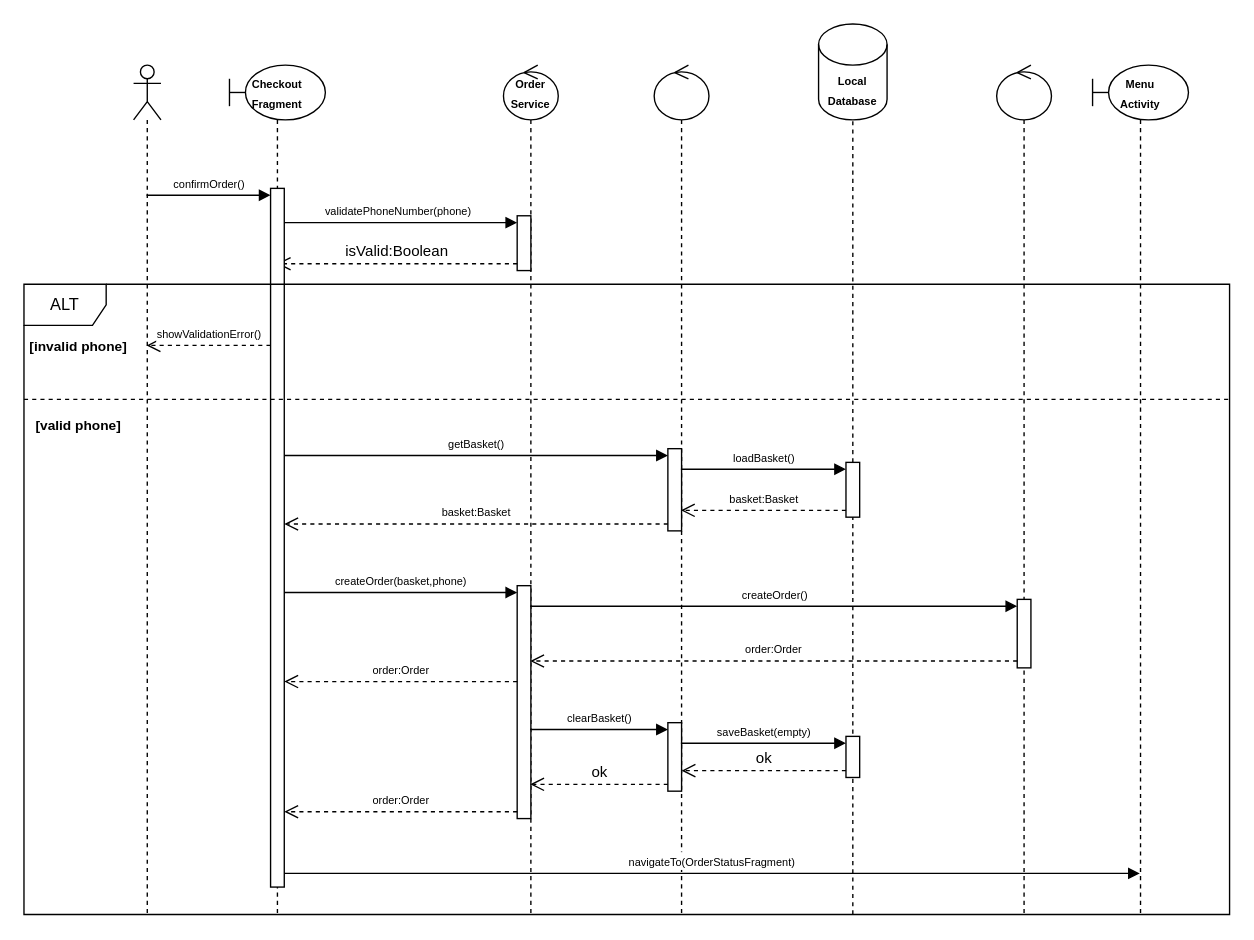
Image size: 1254x940. Some labels were removed from this diagram. Here are the shapes that lost their labels. From the top down, the box of each, then its label:
(653, 64, 709, 914): Basket Service
(995, 64, 1051, 914): API Service
